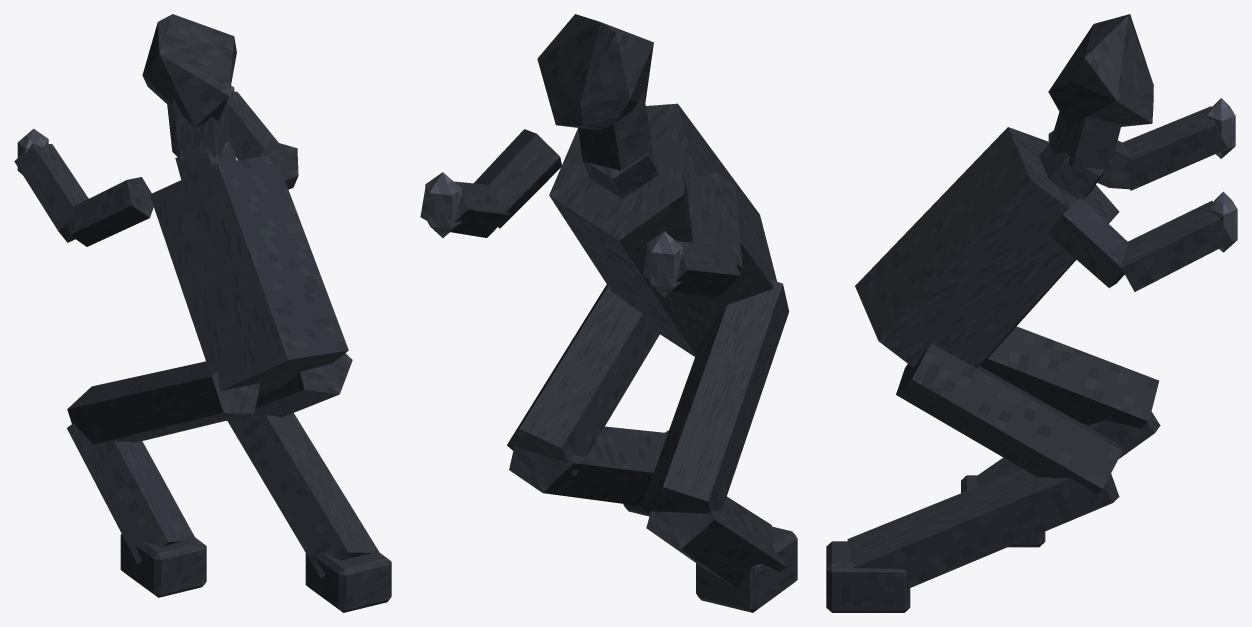
Rendered from f_glassedbody_12.glb.
3 views of the same model, side by side, from view 1: azimuth 30°, elevation 25°; view 2: azimuth 150°, elevation 25°; view 3: azimuth 270°, elevation 25° (orthographic). The views are drawn at different scales.
Parts seen in each view (by area): view 1: block_angular-torso-1, block_faceted-glass-leg-1 (×2), block_faceted-glass-leg-2 (×2), block_solid-glass-foot (×2), block_angular-black-glass-head, block_angular-glass-arm-2 (×2), block_angular-glass-arm-1 (×2), block_vitrified-neck-2, block_vitrified-neck-1; view 2: block_faceted-glass-leg-2 (×2), block_angular-torso-1, block_faceted-glass-leg-1 (×2), block_angular-black-glass-head, block_angular-glass-arm-1 (×2), block_angular-glass-arm-2 (×2), block_solid-glass-foot, block_glass-hand (×2), block_vitrified-neck-2, block_vitrified-neck-1; view 3: block_angular-torso-1, block_faceted-glass-leg-2 (×2), block_faceted-glass-leg-1 (×2), block_angular-glass-arm-2 (×2), block_angular-black-glass-head, block_solid-glass-foot (×2), block_angular-glass-arm-1 (×2), block_vitrified-neck-2, block_glass-hand (×2), block_vitrified-neck-1.
Boxes of the visible parts, bbox=[...] form: block_angular-torso-1: bbox=[150, 154, 348, 395]; block_faceted-glass-leg-1 (×2): bbox=[67, 413, 378, 581]; block_faceted-glass-leg-2 (×2): bbox=[67, 353, 352, 444]; block_solid-glass-foot (×2): bbox=[120, 534, 391, 612]; block_angular-black-glass-head: bbox=[142, 14, 236, 127]; block_angular-glass-arm-2 (×2): bbox=[14, 91, 278, 242]; block_angular-glass-arm-1 (×2): bbox=[67, 140, 298, 246]; block_vitrified-neck-2: bbox=[167, 98, 231, 158]; block_vitrified-neck-1: bbox=[175, 142, 236, 179]; block_faceted-glass-leg-2 (×2): bbox=[507, 280, 789, 513]; block_angular-torso-1: bbox=[549, 103, 776, 356]; block_faceted-glass-leg-1 (×2): bbox=[509, 425, 786, 588]; block_angular-black-glass-head: bbox=[537, 14, 653, 129]; block_angular-glass-arm-1 (×2): bbox=[474, 129, 742, 270]; block_angular-glass-arm-2 (×2): bbox=[420, 181, 740, 297]; block_solid-glass-foot: bbox=[696, 526, 797, 612]; block_glass-hand (×2): bbox=[425, 172, 683, 297]; block_vitrified-neck-2: bbox=[578, 90, 653, 170]; block_vitrified-neck-1: bbox=[583, 150, 658, 198]; block_angular-torso-1: bbox=[855, 127, 1119, 368]; block_faceted-glass-leg-2 (×2): bbox=[896, 326, 1158, 494]; block_faceted-glass-leg-1 (×2): bbox=[847, 411, 1160, 589]; block_angular-glass-arm-2 (×2): bbox=[1121, 106, 1232, 291]; block_angular-black-glass-head: bbox=[1048, 14, 1153, 126]; block_solid-glass-foot (×2): bbox=[826, 475, 1045, 612]; block_angular-glass-arm-1 (×2): bbox=[1047, 130, 1131, 287]; block_vitrified-neck-2: bbox=[1049, 112, 1121, 169]; block_glass-hand (×2): bbox=[1207, 98, 1237, 252]; block_vitrified-neck-1: bbox=[1038, 142, 1105, 199].
Size of the model in its own units: 0.5585 by 1.16 by 0.7782.
Materials: 1 (1 with a texture image).
